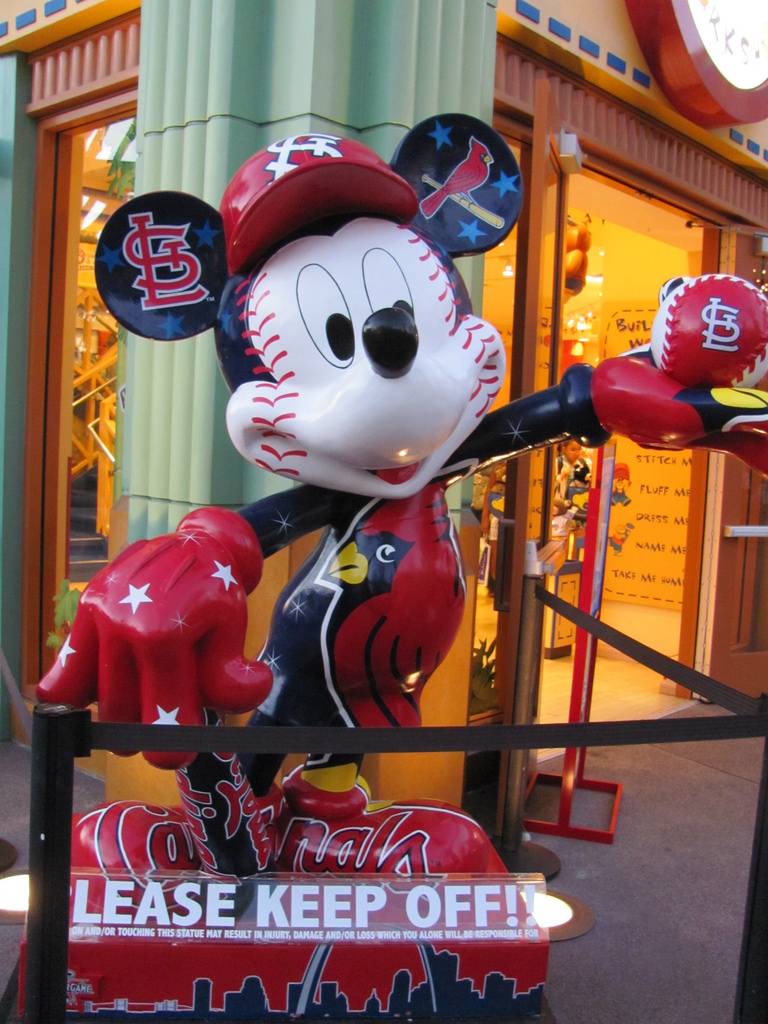Mickey: (95, 112, 527, 505)
